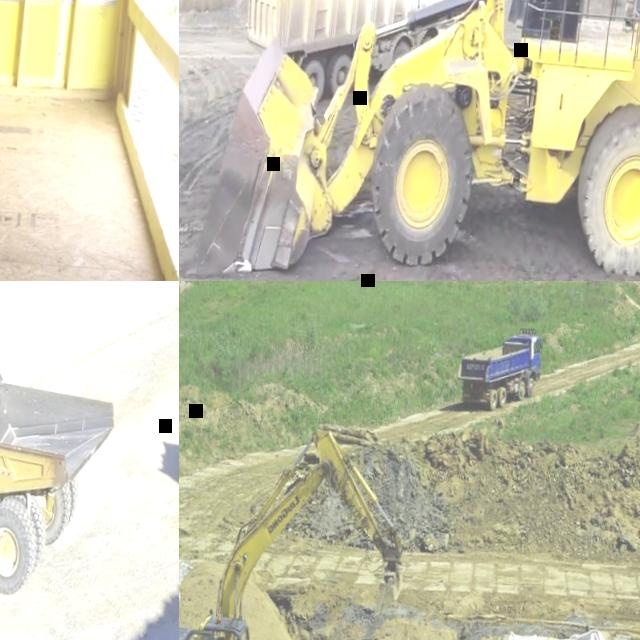NO-Hardhat: (219, 635, 226, 640)
machinery: (192, 0, 640, 281), (179, 416, 417, 640), (0, 332, 127, 609), (237, 0, 458, 107), (456, 321, 546, 413)
